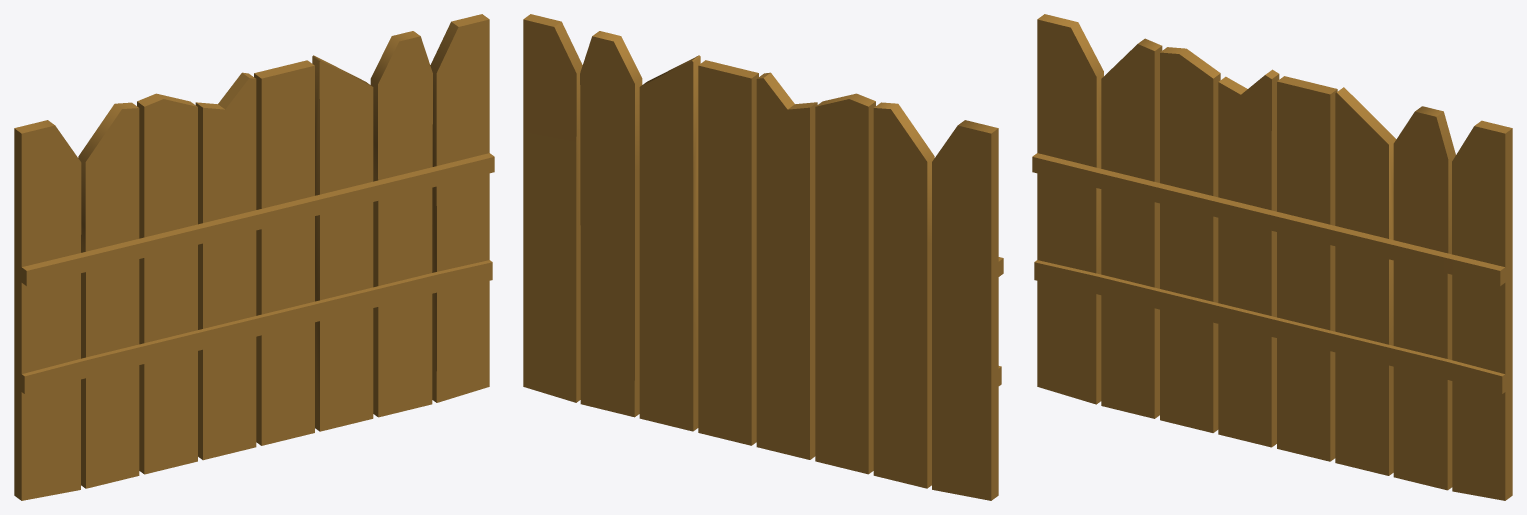
File: the fence.gltf
The picture shows the model from 3 angles, left to right: view 1: azimuth 30°, elevation 25°; view 2: azimuth 150°, elevation 25°; view 3: azimuth 330°, elevation 25°; orthographic projection.
Parts seen in each view (by area): view 1: Fence_3; view 2: Fence_3; view 3: Fence_3.
Part boxes in pixels (bbox=[...]): Fence_3: bbox=[14, 14, 494, 500]; Fence_3: bbox=[523, 14, 1003, 500]; Fence_3: bbox=[1032, 14, 1512, 500].
Size of the model in its own units: 4 by 3.03 by 0.1862.
